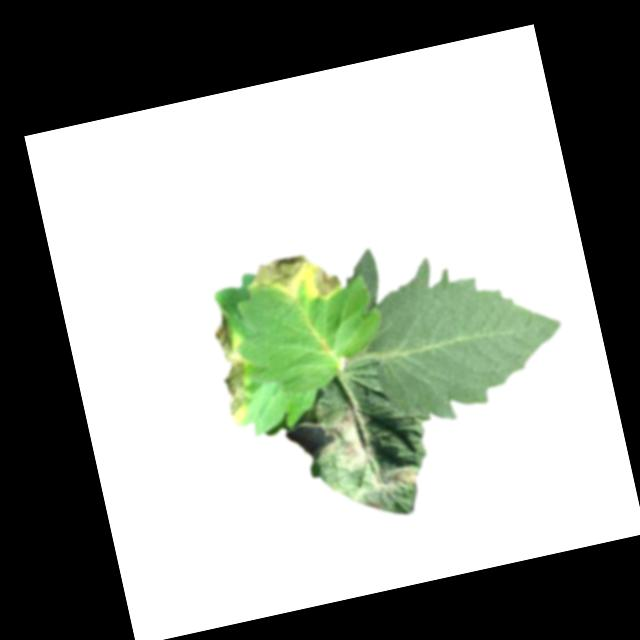Late_blight: (243, 245, 344, 314), (207, 305, 258, 423), (283, 417, 340, 469), (369, 459, 421, 496), (339, 437, 377, 472), (332, 402, 364, 438)
healthy: (353, 231, 577, 434)
